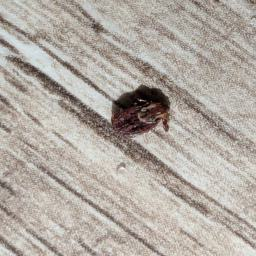Dermacentor variabilis: (113, 96, 171, 138)
